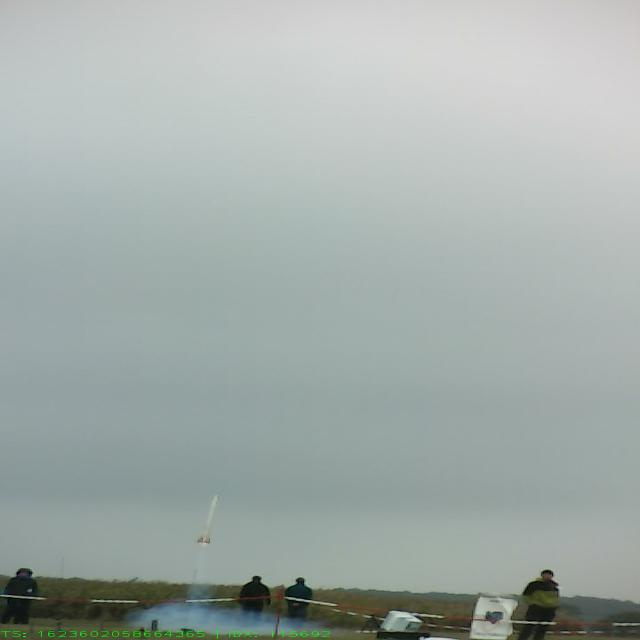Rocket: (196, 494, 218, 544)
